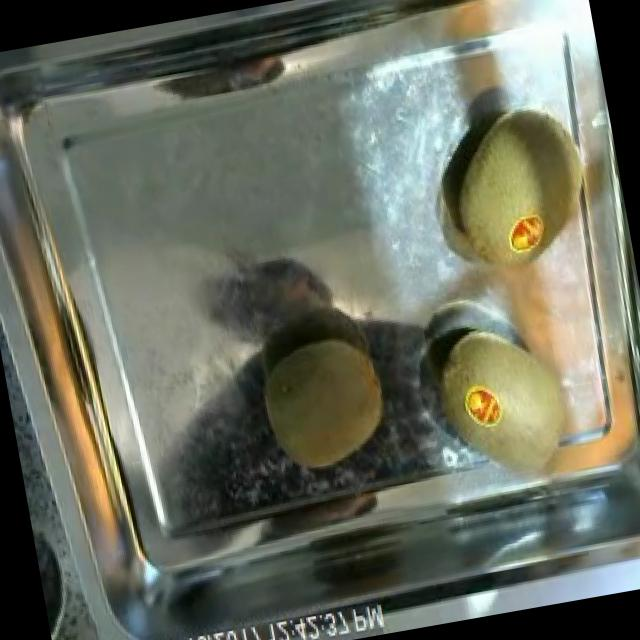Fruit: (417, 293, 640, 511), (426, 82, 632, 296), (243, 320, 407, 490)
